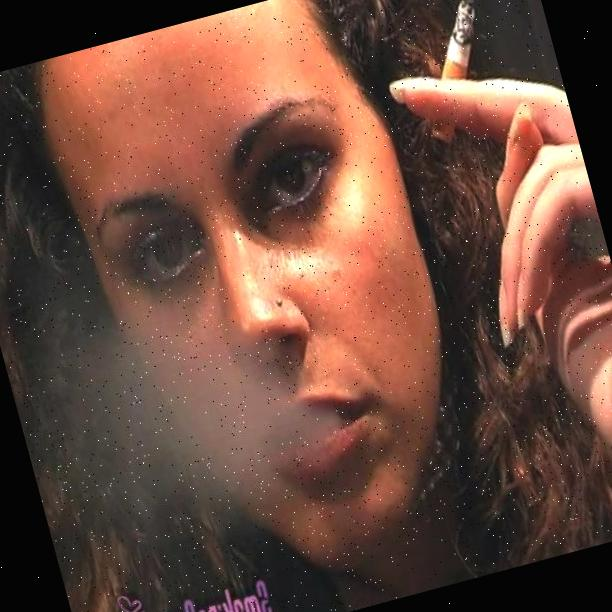smoke: (57, 294, 297, 530)
